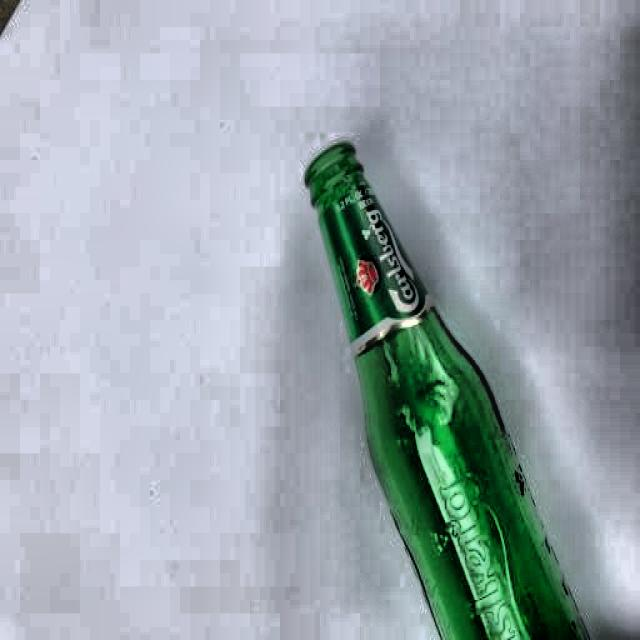glass: (303, 141, 600, 640)
